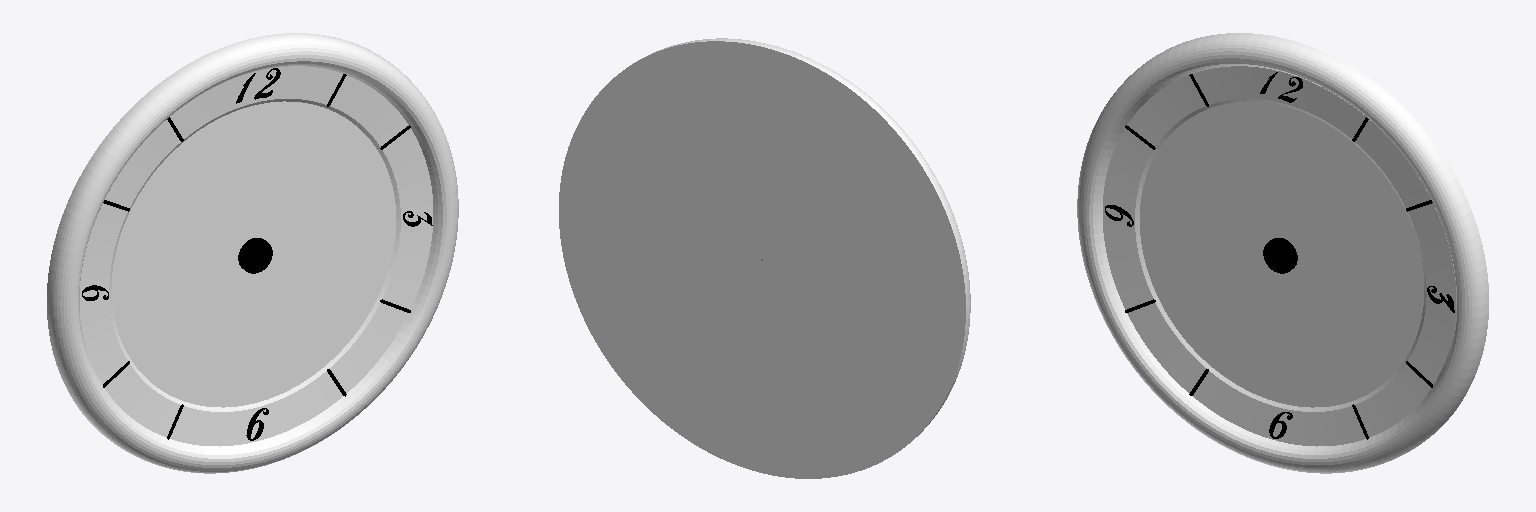
The picture shows the model from 3 angles: view 1: azimuth 30°, elevation 25°; view 2: azimuth 150°, elevation 25°; view 3: azimuth 330°, elevation 25°; orthographic projection.
Parts seen in each view (by area): view 1: watch_face_default, hands_axis_default, hrs; view 2: watch_face_default; view 3: watch_face_default, hands_axis_default, hrs.
Boxes of the visible parts, box(x1,y1,x2,y2) form: watch_face_default: box(47, 33, 458, 473); hands_axis_default: box(238, 238, 272, 273); hrs: box(103, 74, 410, 439); watch_face_default: box(559, 38, 970, 478); watch_face_default: box(1077, 33, 1488, 473); hands_axis_default: box(1263, 238, 1297, 273); hrs: box(1125, 74, 1432, 439).
Size of the model in its own units: 3.46 by 3.46 by 0.1717.
Materials: 4 (2 with a texture image).